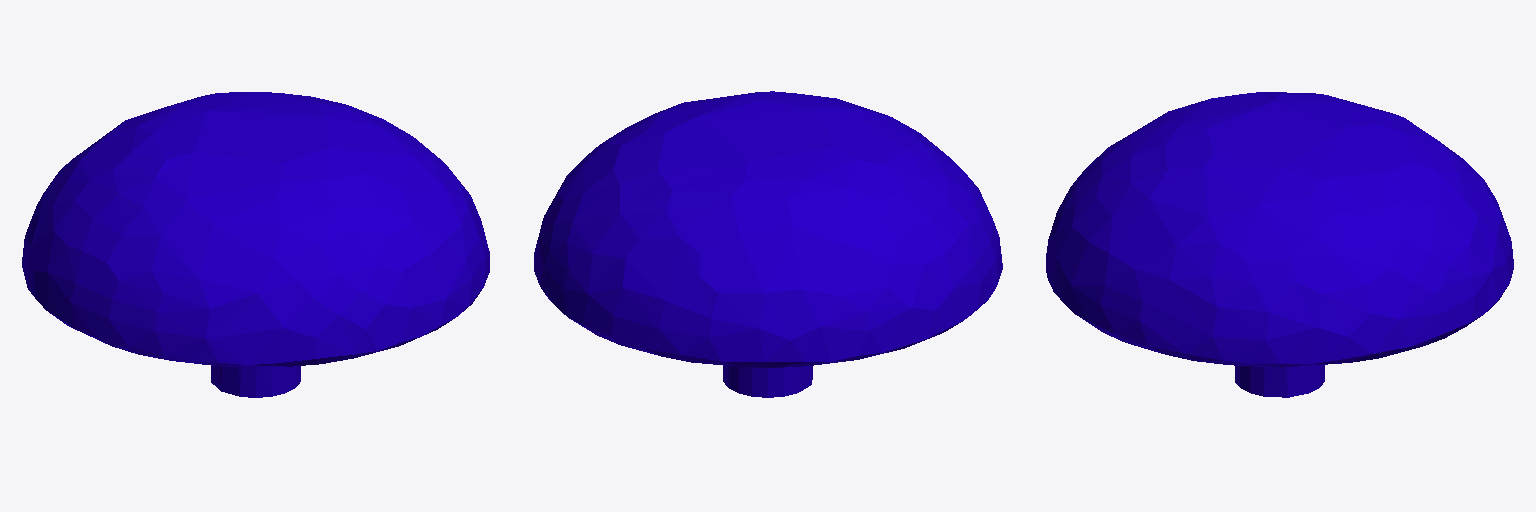
3 renders of one model, left to right at view 1: azimuth 30°, elevation 25°; view 2: azimuth 150°, elevation 25°; view 3: azimuth 270°, elevation 25°, orthographic.
Parts seen in each view (by area): view 1: Magic_Mushroom; view 2: Magic_Mushroom; view 3: Magic_Mushroom.
Part boxes in pixels (x1,y1,x2,y2): Magic_Mushroom: (22,92,489,397); Magic_Mushroom: (534,91,1002,397); Magic_Mushroom: (1046,92,1513,397).
Bounding box in the file's own units: 6.11 × 3.53 × 6.1.